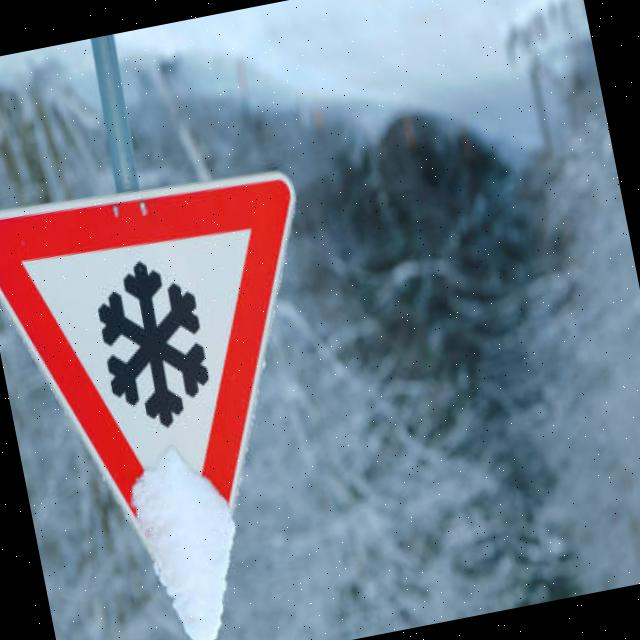snow_warning: (0, 135, 393, 640)
